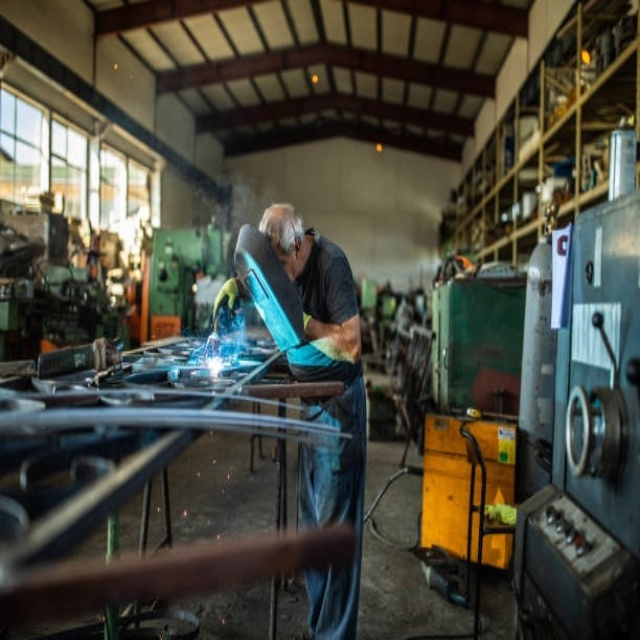Guantes: (212, 278, 239, 326)
